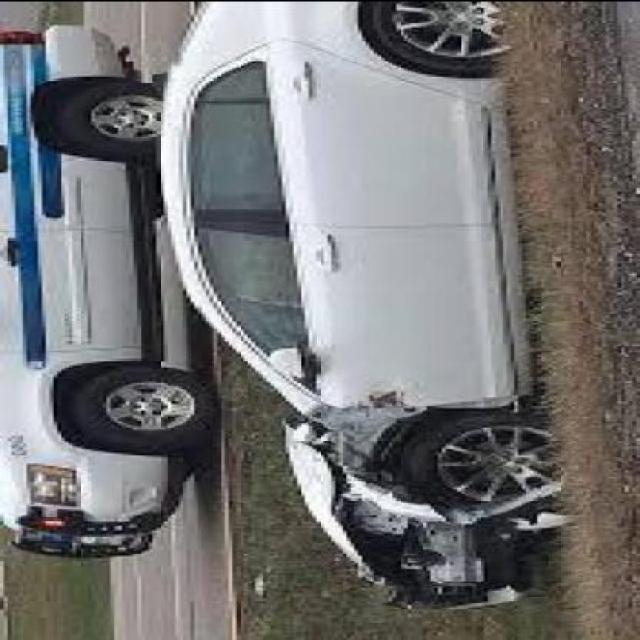damage: (281, 384, 568, 612)
